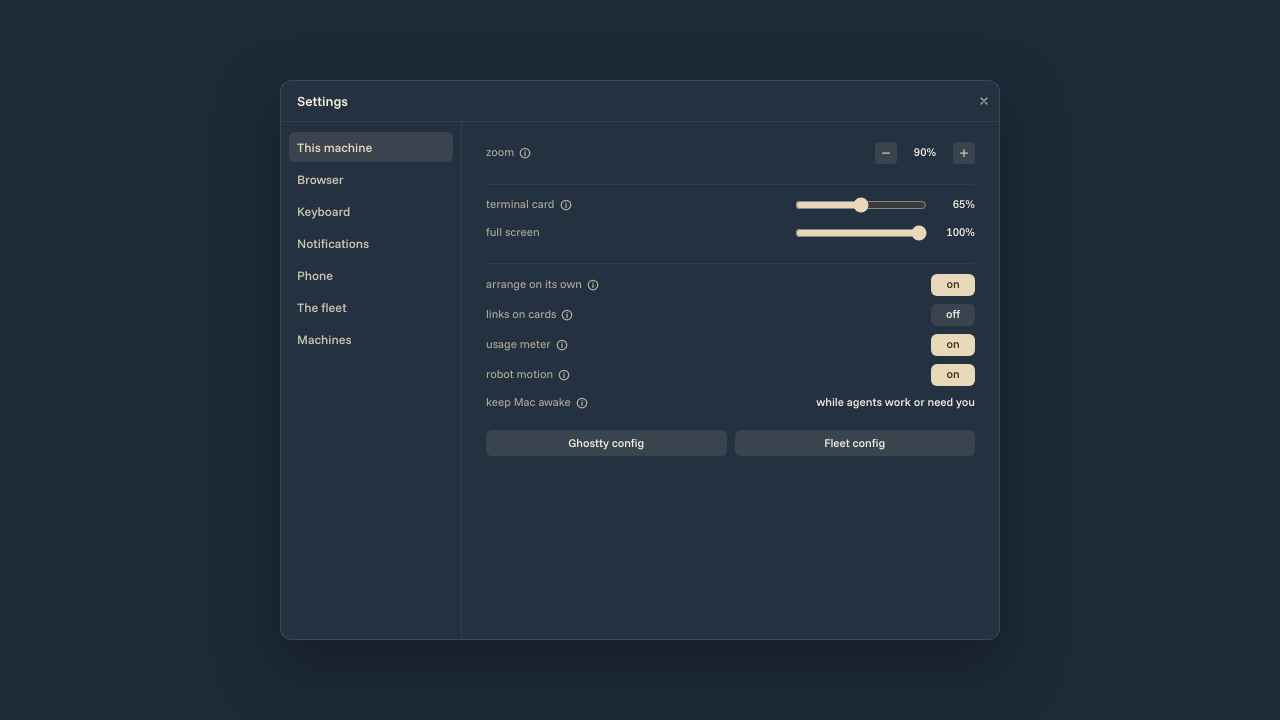
it: the fleet name saves on Enter and retitles the window, and a name that will not do says why and is not sent
The width and height of the screenshot is (1280, 720).
Click the tab "The fleet" at (371,307), box [289,292,453,322]
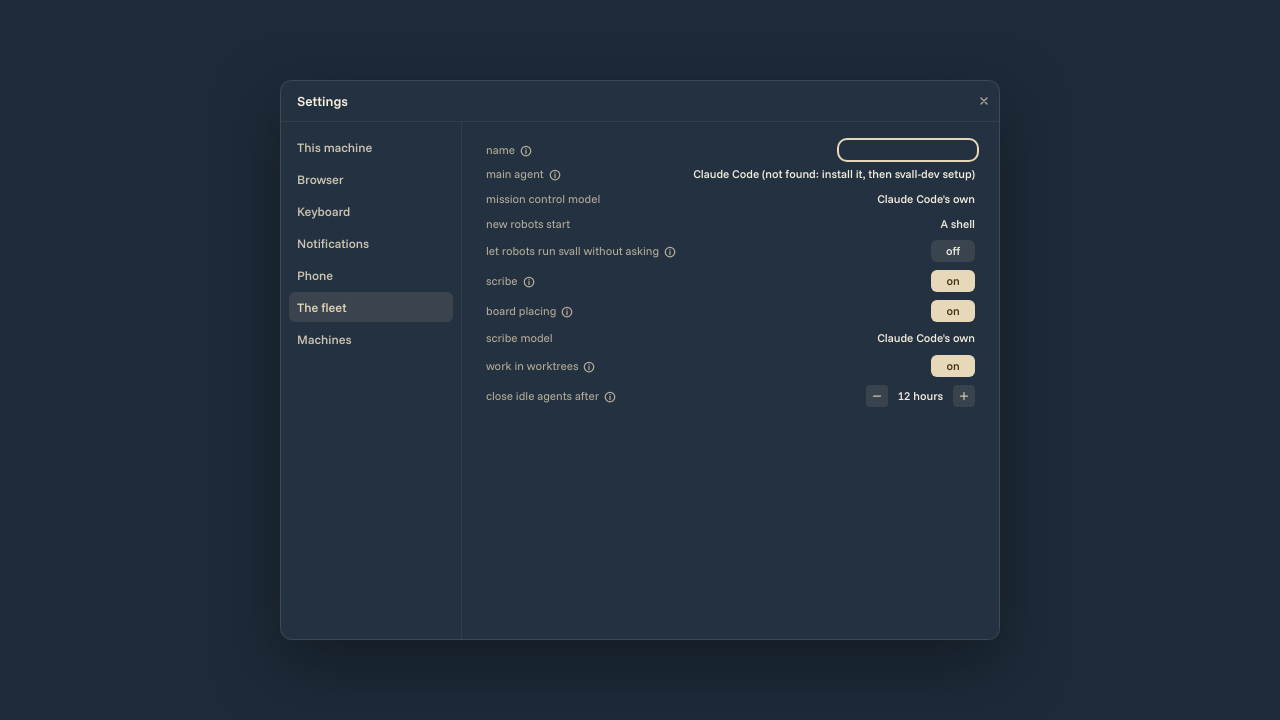
Type "Big Base" into the field with test id "set-fleet-name" at (908,150), box [841,142,975,158]
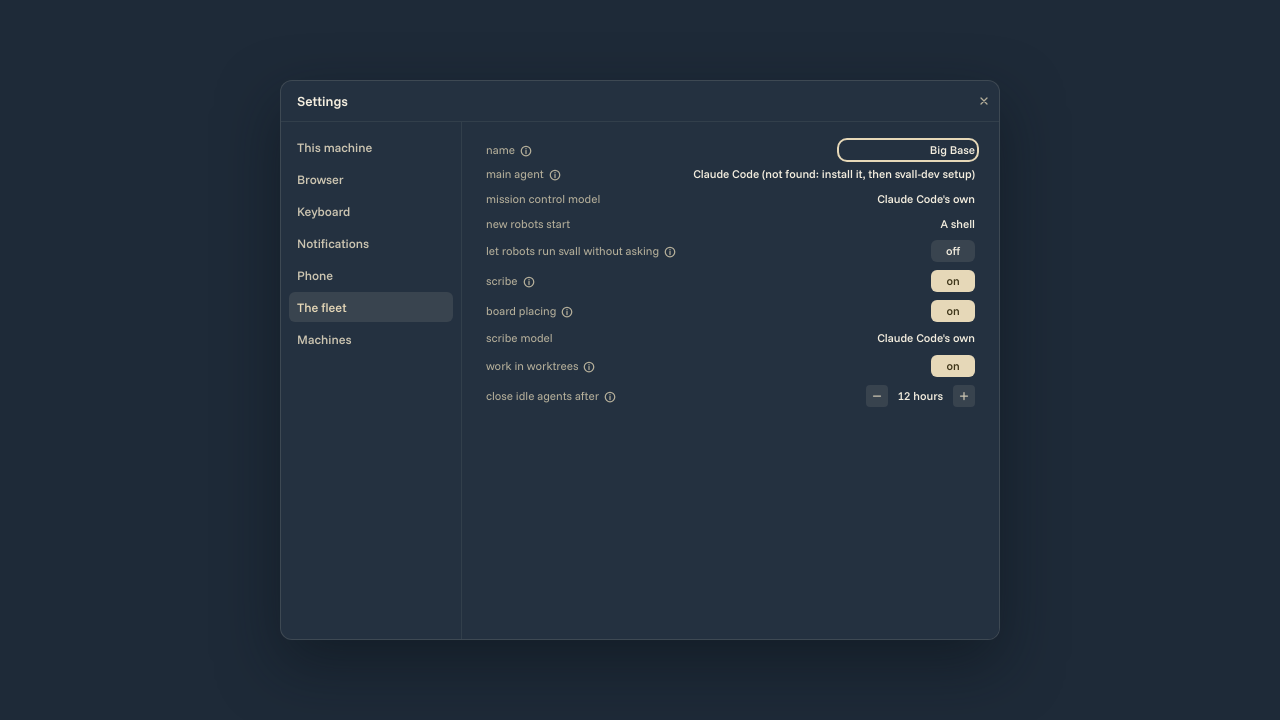
Press Enter in the field with test id "set-fleet-name", box [841,142,975,158]
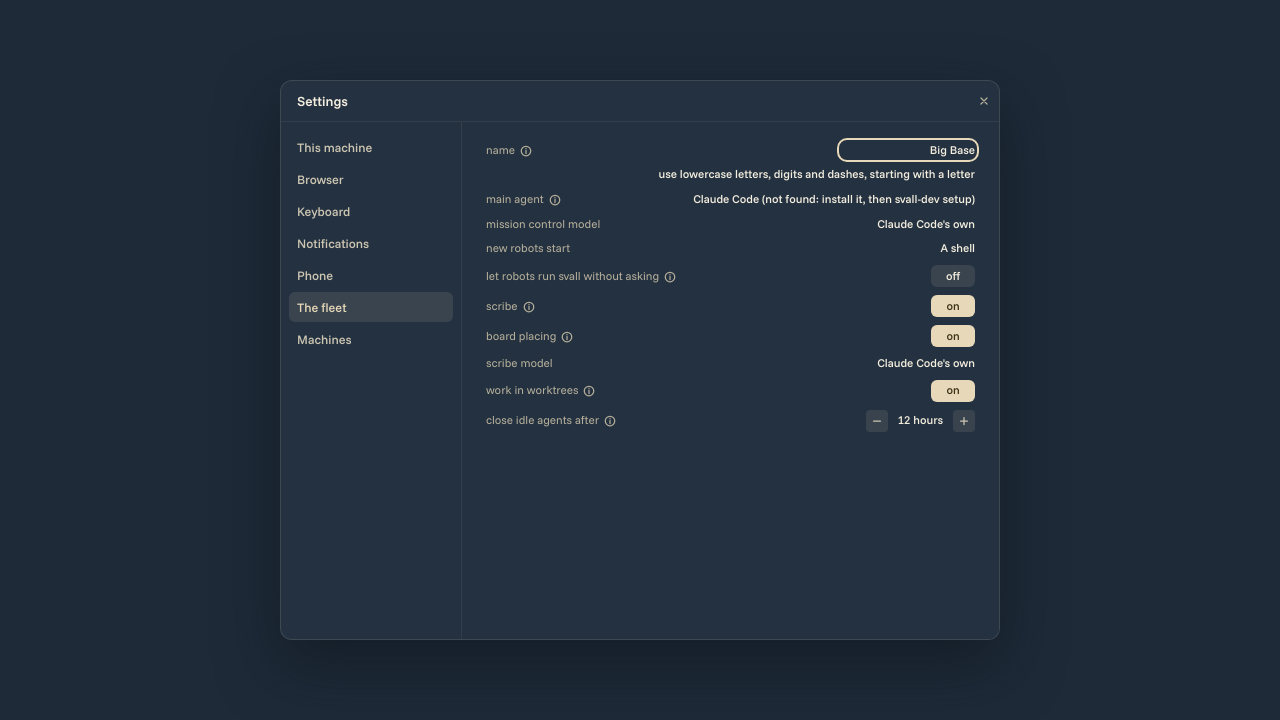
Check: the element with test id "set-fleet-name-error" shows "lowercase", box [659,166,975,181]
Replace the text in the field with test id "set-fleet-name" with "base" at (908,150), box [841,142,975,158]
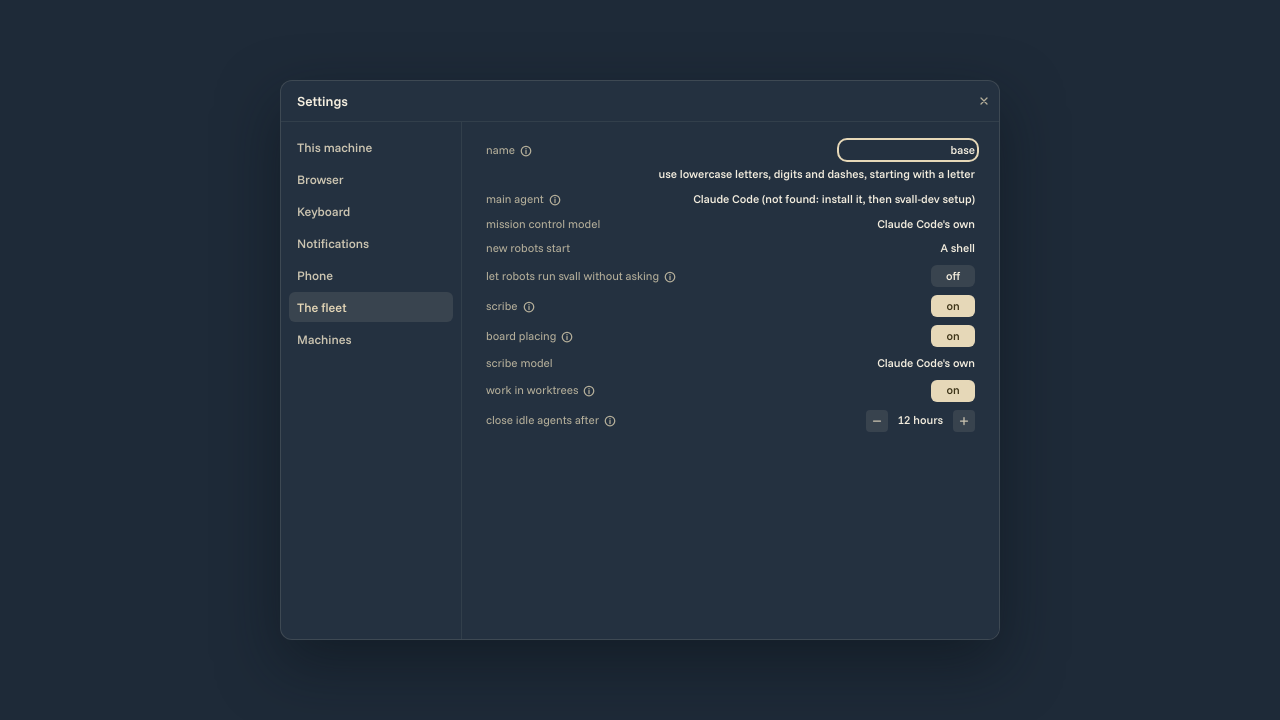
Press Enter in the field with test id "set-fleet-name", box [841,142,975,158]
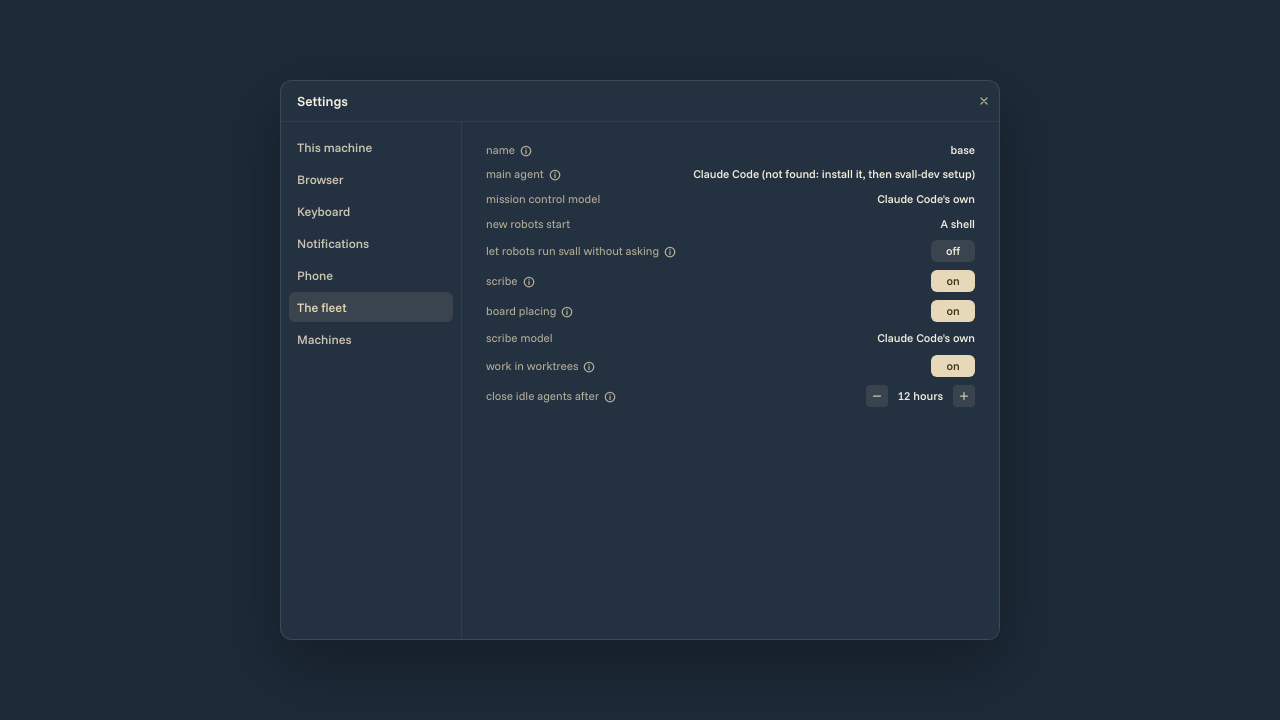
Check: the element with test id "set-fleet-name-error" is gone
